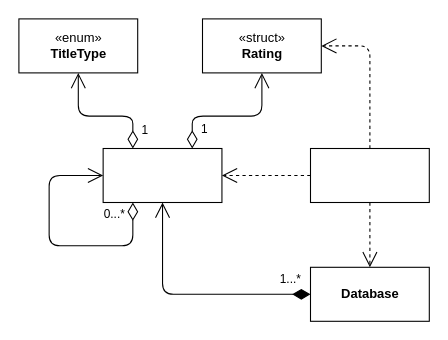
Some shapes in this 448 by 340 pixel diagram are drawn without their labels. The shapes that lost their labels are listed below. From the top down, each one's centre as x and y in pixels, then its label:
(162,174): TItle
(369,174): DataReader
